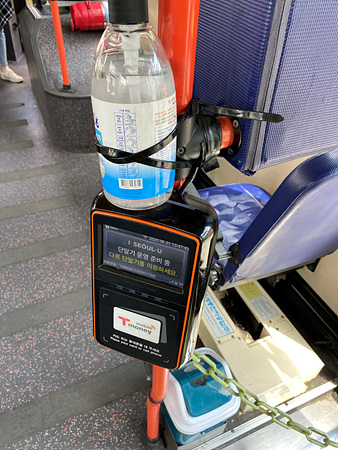terminal: (90, 193, 195, 363)
